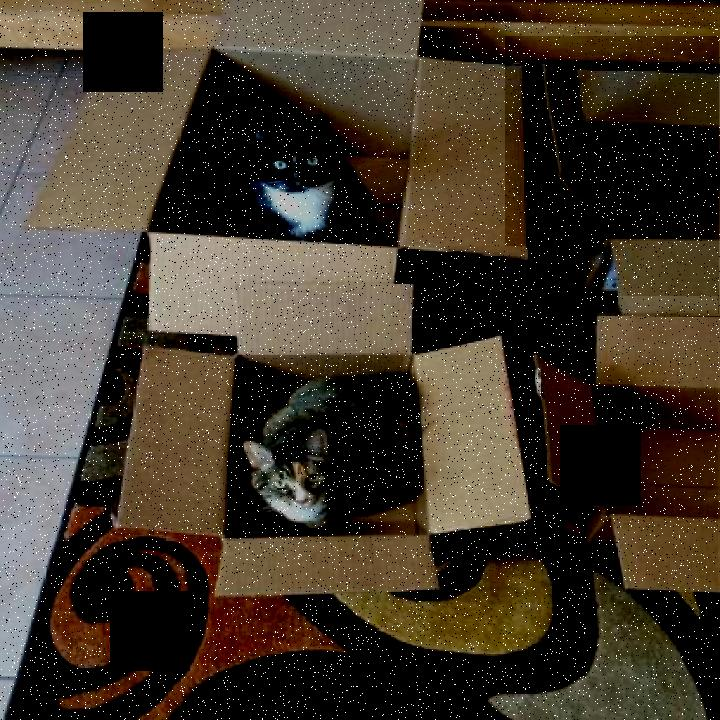box: (103, 246, 536, 663), (3, 0, 540, 334), (500, 296, 718, 666), (505, 36, 719, 314)
